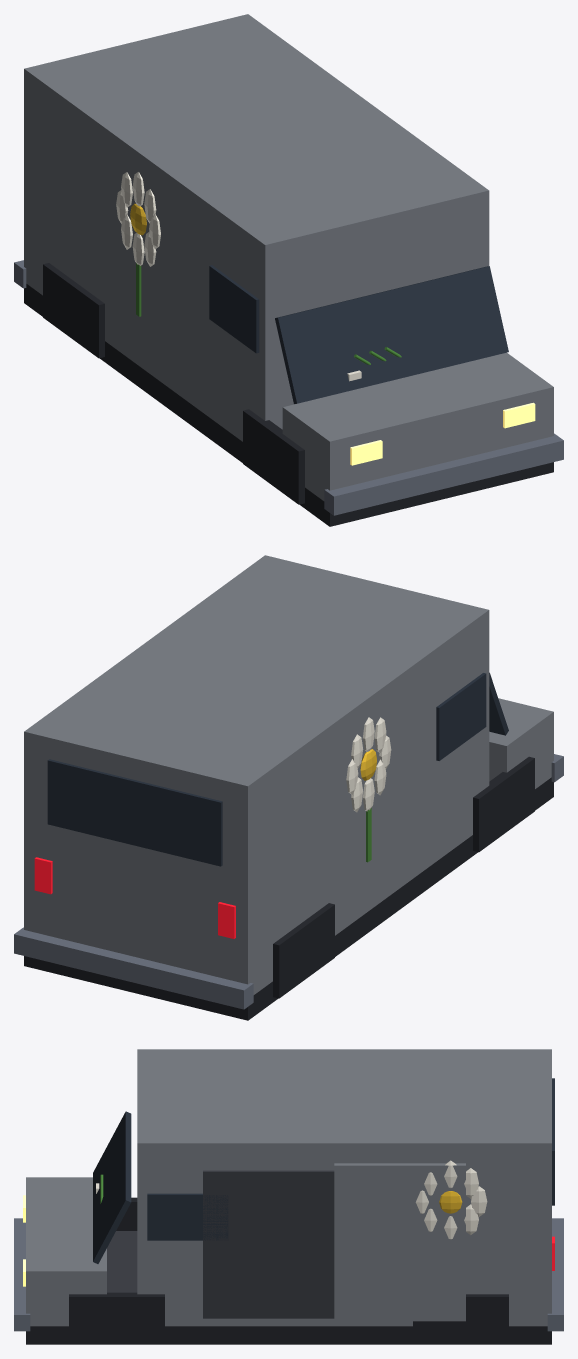
Rendered from robbers_van.glb.
3 views of the same model, one above another, from view 1: azimuth 30°, elevation 25°; view 2: azimuth 150°, elevation 25°; view 3: azimuth 270°, elevation 25° (orthographic). The views are drawn at different scales.
Parts seen in each view (by area): view 1: body_van_grey, body_truck_glass, body_car_black, body_car_grey, daisy_daisy_petal, lights_lamp; view 2: body_van_grey, body_truck_glass, body_car_black, body_car_grey, daisy_daisy_petal, lights_tail; view 3: body_van_grey, door_van_grey, door_van_inside, body_car_black, body_truck_glass, body_car_grey, daisy_daisy_petal, body_van_inside, daisy_daisy_heart.
Part boxes in pixels (<box>): body_van_grey: <box>24,14,553,500</box>; body_truck_glass: <box>209,265,508,403</box>; body_car_black: <box>24,263,553,526</box>; body_car_grey: <box>14,260,563,515</box>; daisy_daisy_petal: <box>116,172,160,266</box>; lights_lamp: <box>350,402,535,465</box>; body_van_grey: <box>24,555,553,994</box>; body_truck_glass: <box>47,672,508,866</box>; body_car_black: <box>24,756,553,1020</box>; body_car_grey: <box>14,754,563,1009</box>; daisy_daisy_petal: <box>346,717,391,812</box>; lights_tail: <box>34,857,235,938</box>; body_van_grey: <box>26,1049,551,1326</box>; door_van_grey: <box>334,1163,465,1321</box>; door_van_inside: <box>203,1170,334,1318</box>; body_car_black: <box>26,1197,551,1344</box>; body_truck_glass: <box>93,1078,554,1263</box>; body_car_grey: <box>14,1218,563,1331</box>; daisy_daisy_petal: <box>415,1160,487,1239</box>; body_van_inside: <box>107,1231,137,1292</box>; daisy_daisy_heart: <box>439,1191,462,1213</box>.
Bounding box in the file's own units: 2.38 × 2.2 × 5.44.
